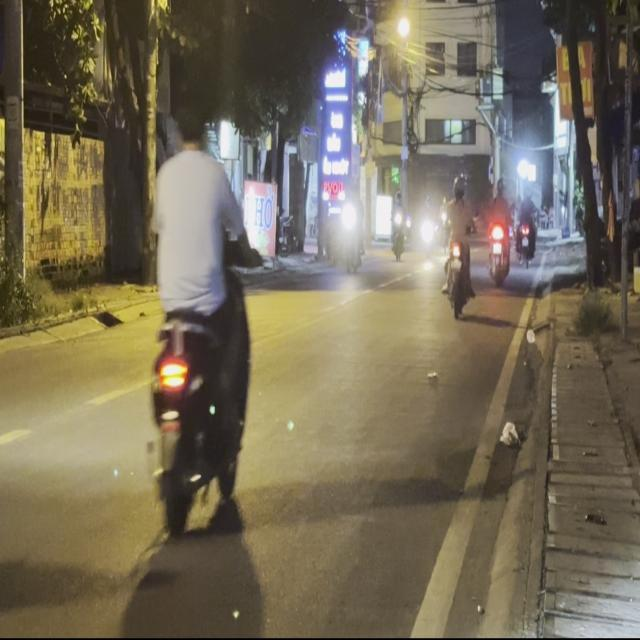licenseplate: (140, 87, 257, 544)
motorcyclist: (171, 87, 210, 151)
